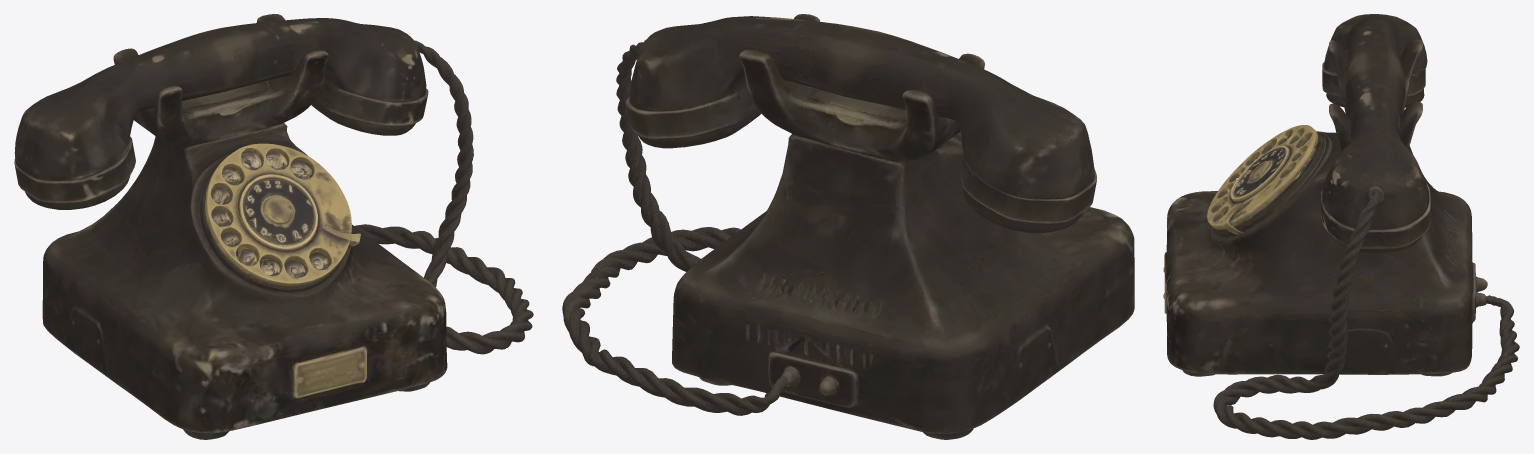
The model's file is telephone.glb.
3 renders of one model, left to right at view 1: azimuth 30°, elevation 25°; view 2: azimuth 150°, elevation 25°; view 3: azimuth 270°, elevation 25°, orthographic. The views are drawn at different scales.
Visible parts, largest first — view 1: Mesh_0; view 2: Mesh_0; view 3: Mesh_0.
Boxes of the visible parts, x1,y1,x2,y2 form: Mesh_0: [14, 14, 533, 439]; Mesh_0: [562, 14, 1134, 439]; Mesh_0: [1163, 14, 1519, 439].
Size of the model in its own units: 1.9 by 1.19 by 1.41.
Materials: 1 (1 with a texture image).
